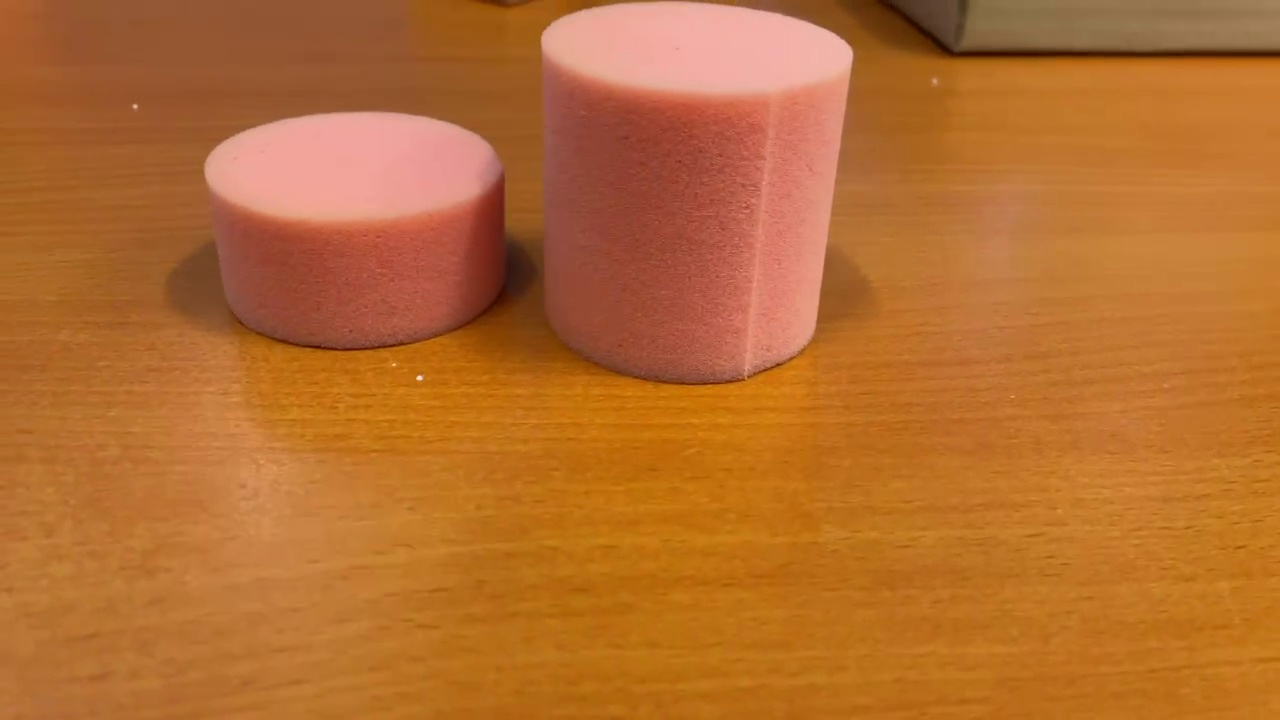Clyinder_short: (193, 103, 514, 354)
Cylinder: (529, 1, 857, 388)
